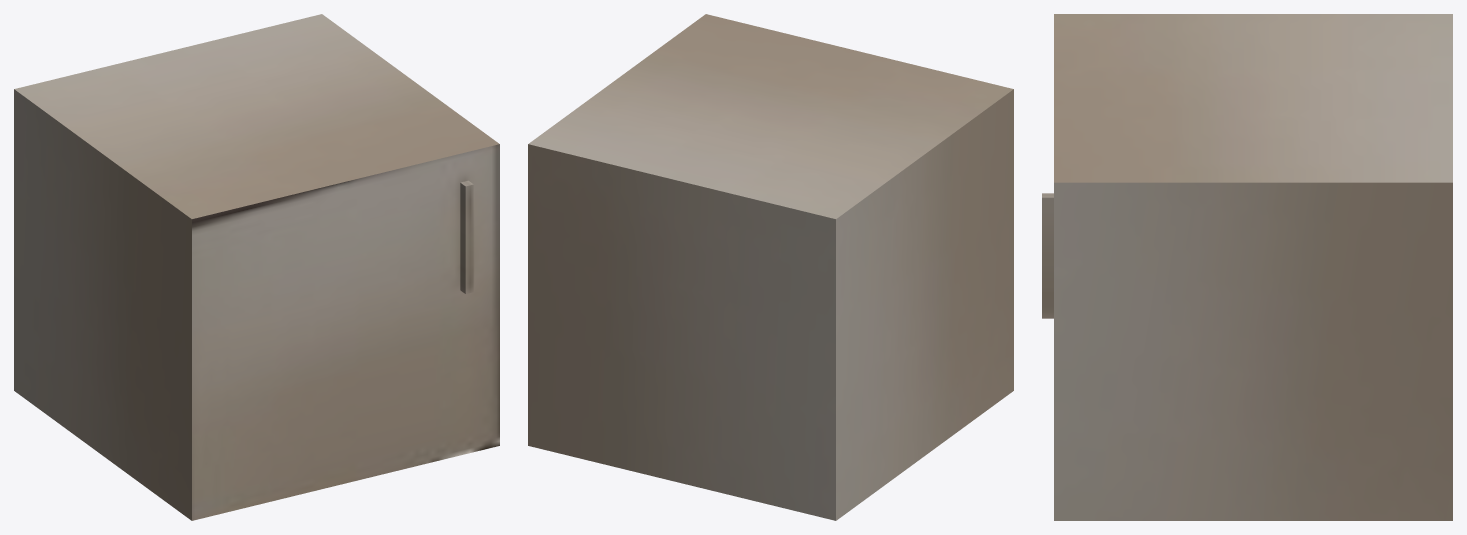
File: tabledechevet2.fbx
3 views of the same model, side by side, from view 1: azimuth 30°, elevation 25°; view 2: azimuth 150°, elevation 25°; view 3: azimuth 270°, elevation 25° (orthographic). The views are drawn at different scales.
Visible parts, largest first — view 1: MSH_meuble3; view 2: MSH_meuble3; view 3: MSH_meuble3.
Boxes of the visible parts, x1,y1,x2,y2 form: MSH_meuble3: (14, 14, 499, 520); MSH_meuble3: (528, 14, 1013, 520); MSH_meuble3: (1042, 14, 1452, 520).
Size of the model in its own units: 6.56 by 6.14 by 6.76.
1 material, 1 textured.
